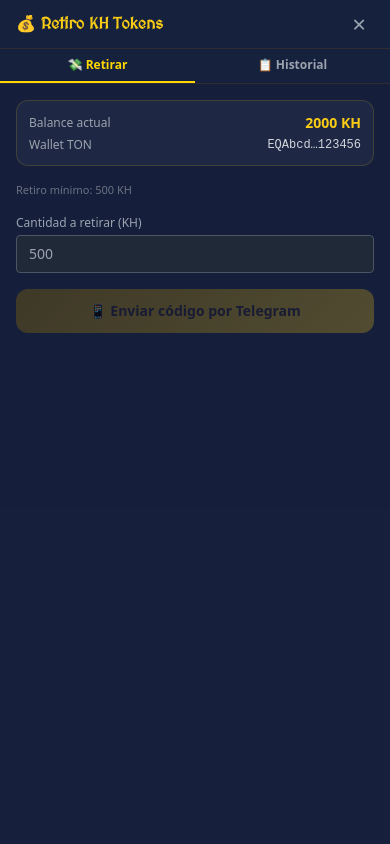
Test: WithdrawalPanel — Step 1 (amount entry) › shows fee preview when amount >= 500
In the number field with placeholder "500": (195, 254) [16,234,374,272], type "1000"
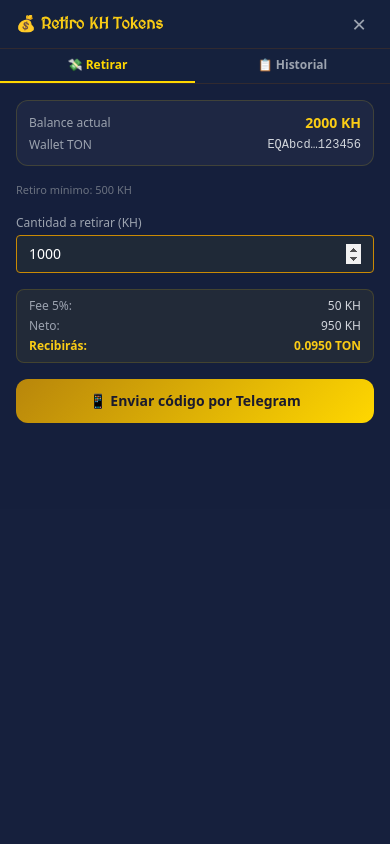
Check: the text "Recibirás:" is shown, box [29,338,87,354]
Check: the text "0.0950 TON" is shown, box [294,338,361,354]
